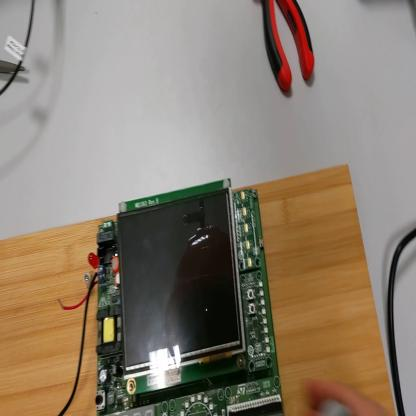hand: (304, 376, 388, 416)
low voltage board: (57, 178, 285, 416)
oscilloscope probe tip: (1, 58, 27, 76)
pliers: (255, 1, 317, 92)
screwdriver-: (316, 398, 349, 412)
working area: (2, 167, 396, 415)
